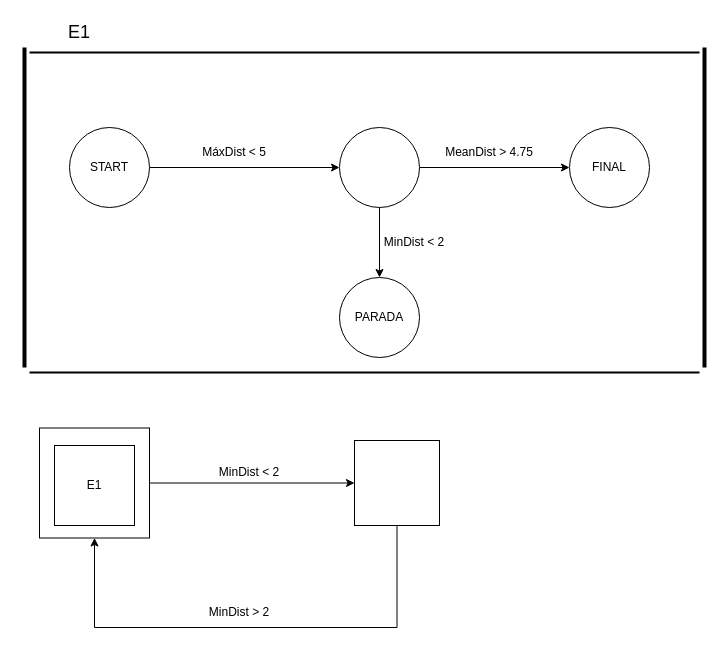
Some shapes in this 728 by 653 pixel diagram are drawn without their labels. Each missing label, with the box of its shape:
AVANCE: (338, 126, 420, 208)
ORIENTACIÓN: (354, 440, 440, 526)
